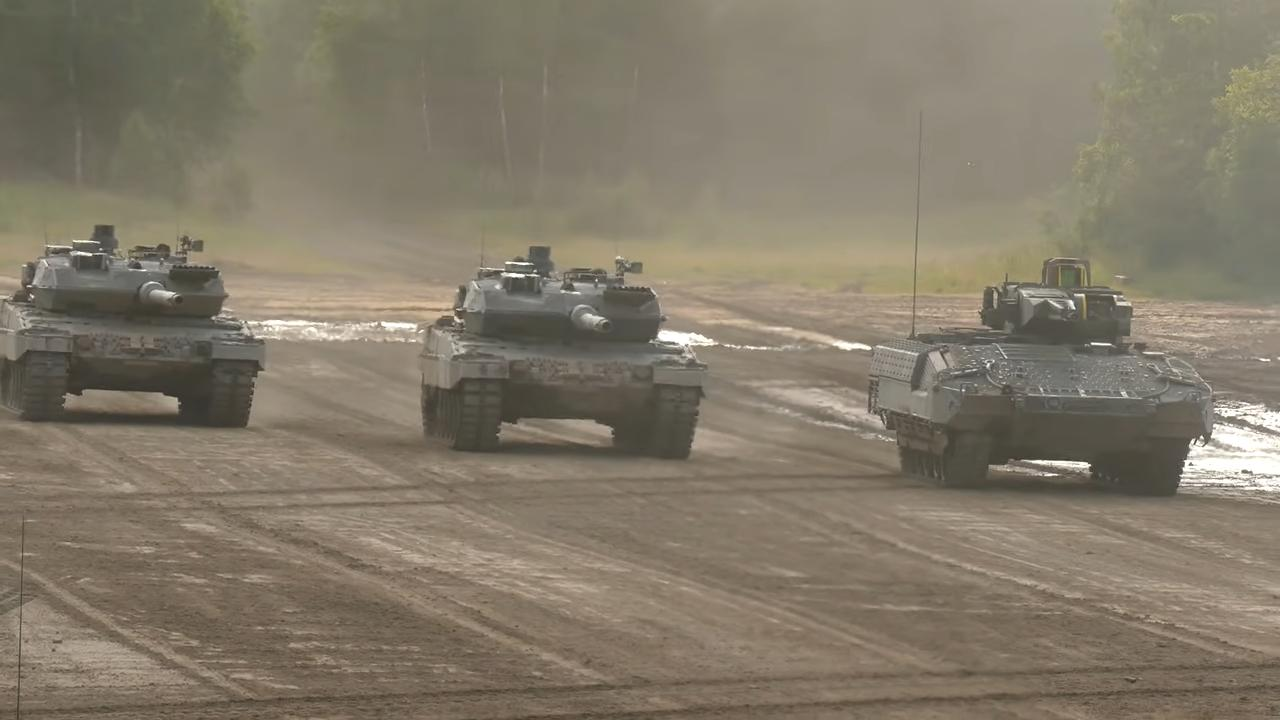tank: (867, 108, 1216, 488), (417, 243, 710, 458), (0, 225, 266, 427)
